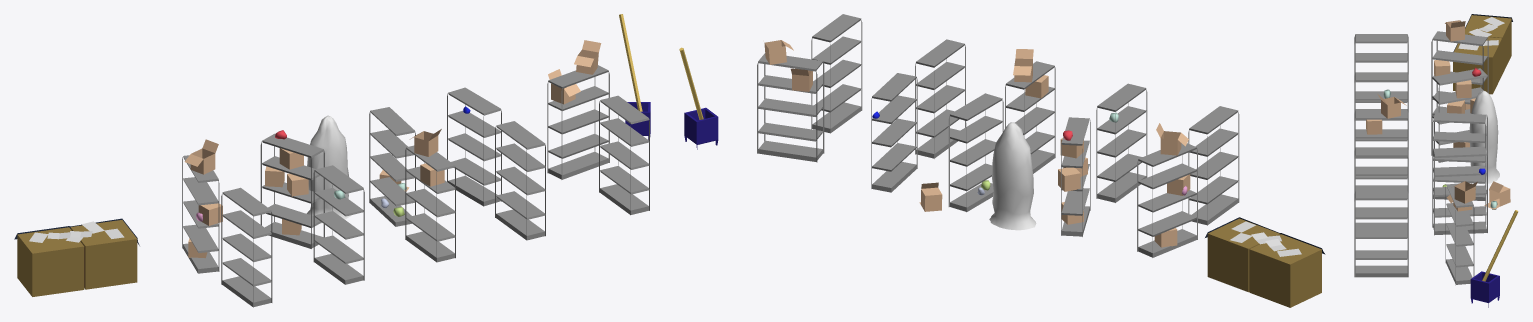
Rendered from MaintainenceSupplies.glb.
3 views of the same model, side by side, from view 1: azimuth 30°, elevation 25°; view 2: azimuth 150°, elevation 25°; view 3: azimuth 270°, elevation 25° (orthographic). The views are drawn at different scales.
Visible parts, largest first — view 1: CrateDesk, Shelf.001, Shelf.010, Shelf.002, Shelf.005, Shelf.004, Shelf.009, Shelf.008, Shelf.003, Shelf.007, Shelf.006, sheet (+9 smaller); view 2: CrateDesk, Shelf.010, sheet, Shelf.002, Shelf.001, Shelf.005, Shelf.009, Shelf.008, Shelf.004, Shelf.006, Shelf.003, Shelf.007 (+8 smaller); view 3: Shelf.005, Shelf.009, CrateDesk, Shelf.010, Shelf.004, Shelf.008, sheet, Shelf.006, Shelf.001, Shelf.002, Shelf.003, Shelf.007 (+11 smaller).
Boxes of the visible parts, x1,y1,x2,y2 form: CrateDesk: (17, 220, 137, 296); Shelf.001: (221, 187, 272, 307); Shelf.010: (547, 65, 609, 179); Shelf.002: (313, 165, 364, 284); Shelf.005: (599, 95, 649, 215); Shelf.004: (495, 121, 545, 240); Shelf.009: (447, 87, 501, 206); Shelf.008: (369, 107, 415, 226); Shelf.003: (405, 145, 455, 262); Shelf.007: (260, 133, 324, 248); Shelf.006: (182, 155, 219, 273); sheet: (306, 115, 351, 223); CrateDesk: (1207, 218, 1321, 307); Shelf.010: (757, 53, 824, 162); sheet: (989, 122, 1036, 230); Shelf.002: (1096, 83, 1147, 202); Shelf.001: (1188, 106, 1239, 225); Shelf.005: (811, 14, 862, 133); Shelf.009: (871, 73, 917, 192); Shelf.008: (948, 93, 1003, 212); Shelf.004: (915, 39, 965, 158); Shelf.006: (1137, 143, 1197, 257); Shelf.003: (1005, 61, 1055, 173); Shelf.007: (1061, 117, 1090, 236); Shelf.005: (1354, 190, 1408, 277); Shelf.009: (1432, 146, 1487, 235); CrateDesk: (1453, 15, 1511, 94); Shelf.010: (1445, 183, 1474, 285); Shelf.004: (1354, 147, 1408, 229); Shelf.008: (1432, 112, 1487, 200); sheet: (1469, 90, 1499, 184); Shelf.006: (1431, 31, 1488, 115); Shelf.001: (1354, 34, 1408, 120); Shelf.002: (1354, 72, 1408, 158); Shelf.003: (1354, 110, 1408, 186); Shelf.007: (1431, 68, 1488, 162).
Bounding box in the file's own units: 23.83 × 4.29 × 6.3.
